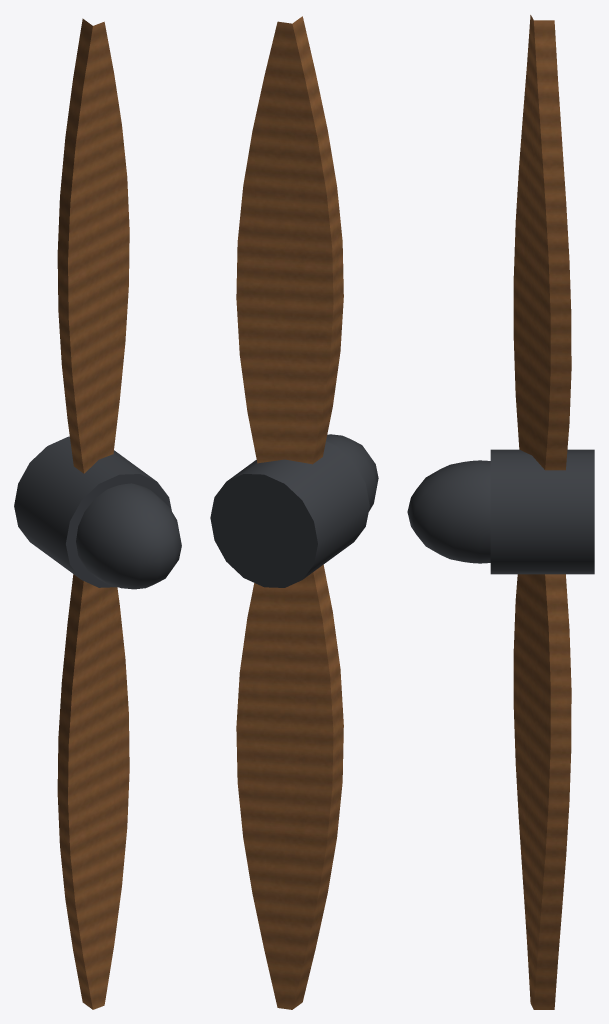
The model's file is airboat-prop.glb.
3 renders of one model, left to right at view 1: azimuth 30°, elevation 25°; view 2: azimuth 150°, elevation 25°; view 3: azimuth 270°, elevation 25°, orthographic.
Visible parts, largest first — view 1: airboat-prop; view 2: airboat-prop; view 3: airboat-prop.
Boxes of the visible parts, <box> form: airboat-prop: <box>14,18,181,1009</box>; airboat-prop: <box>210,16,378,1009</box>; airboat-prop: <box>407,15,594,1009</box>.
Size of the model in its own units: 0.24 by 2.1 by 0.36.
Materials: 2 (1 with a texture image).
